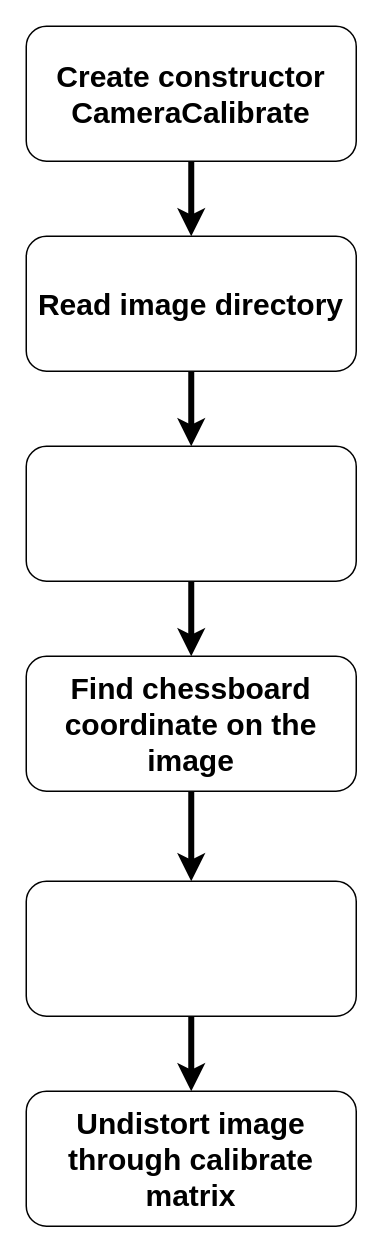
Image size: 383x1253. Some labels were removed from this diagram. Here are the shapes that lost their labels. From the top down, the box of each, then its label:
(25, 445, 356, 581): Convert RGB image to Gray image
(25, 880, 356, 1016): Generate the camera calibrate matrix
